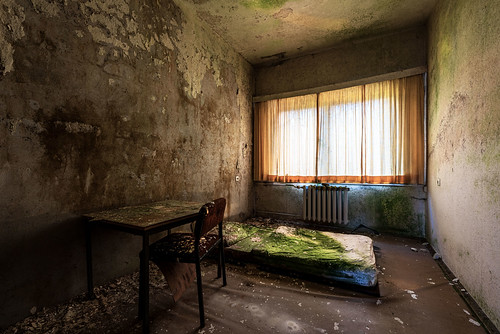chair: (157, 203, 233, 326)
mattress: (201, 200, 389, 287)
table: (70, 188, 202, 302)
window: (256, 72, 426, 183)
